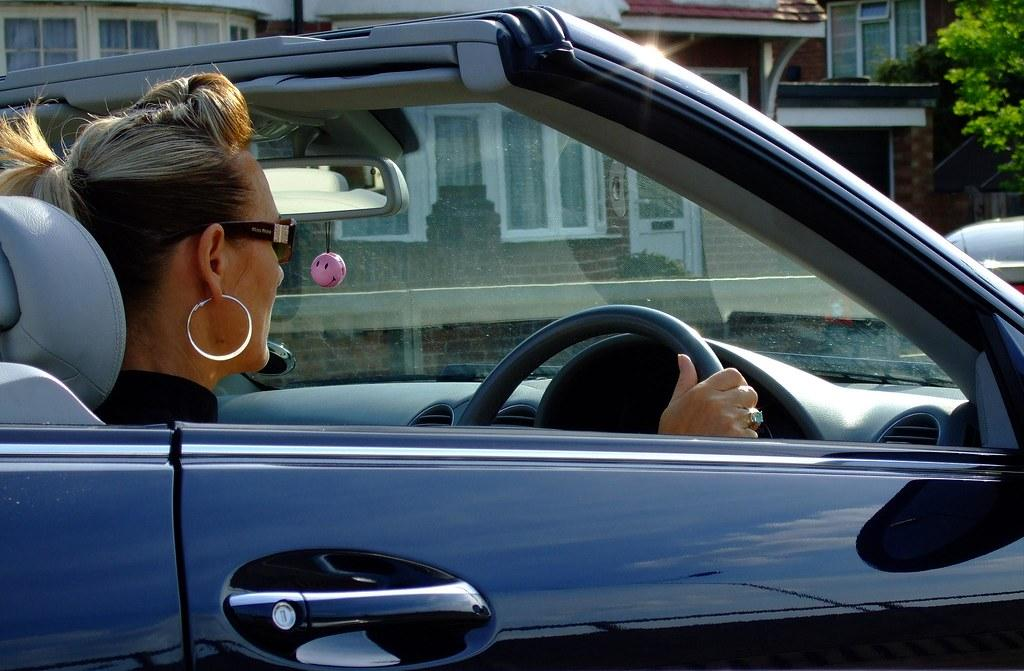car: (2, 6, 1023, 671)
